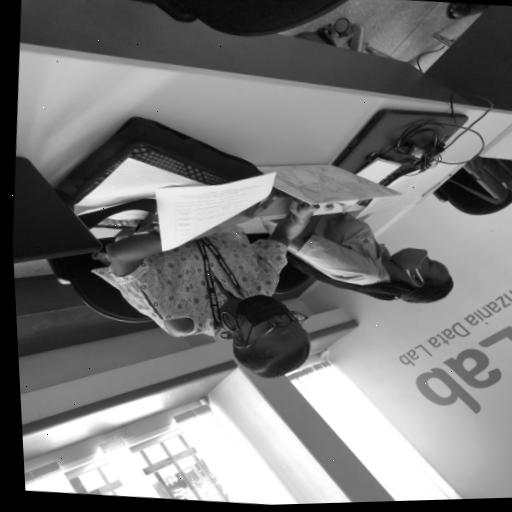mask: (233, 293, 315, 355), (391, 246, 453, 288)
